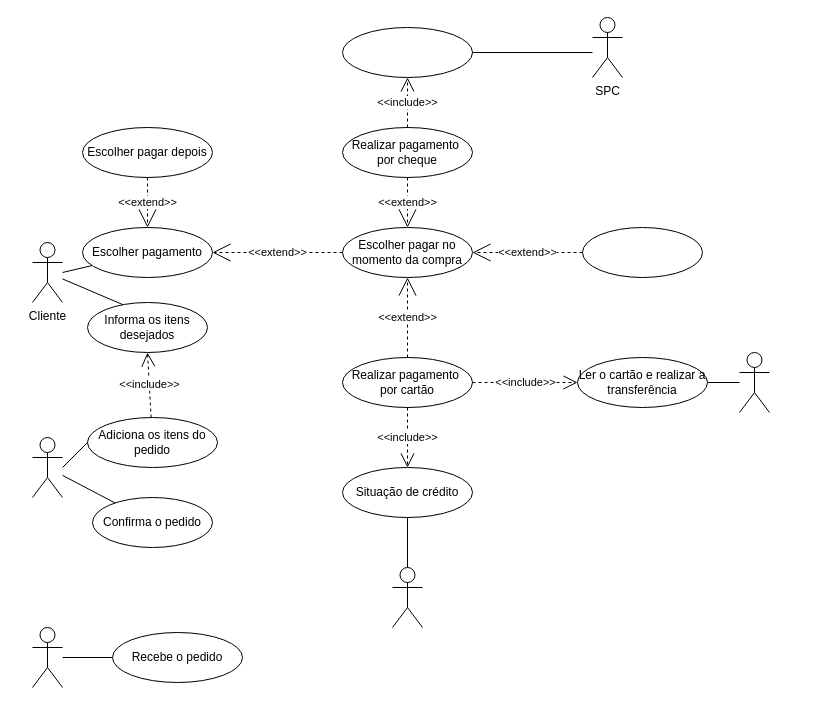
This 813x726 diagram has some shape labels left out. Here are the shapes that lost their labels. From the top down, the centre of each, then its label:
At (x=407, y=52): "Verificar que não possui débitos".
At (x=642, y=252): "Realizar pagamento no dinheiro".
At (x=754, y=382): "Leitor de cartão".
At (x=47, y=467): "Garçom".
At (x=407, y=597): "Operadora de cartão".
At (x=47, y=657): "Fornecedor".
